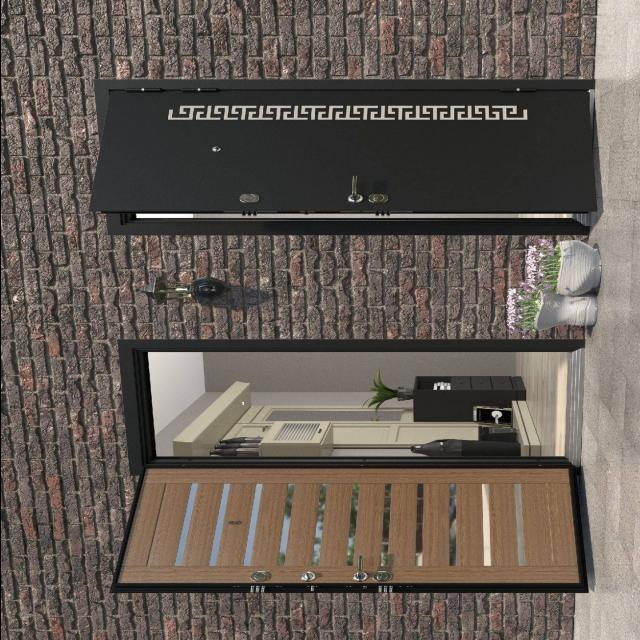open: (117, 345, 581, 578), (108, 78, 596, 234)
